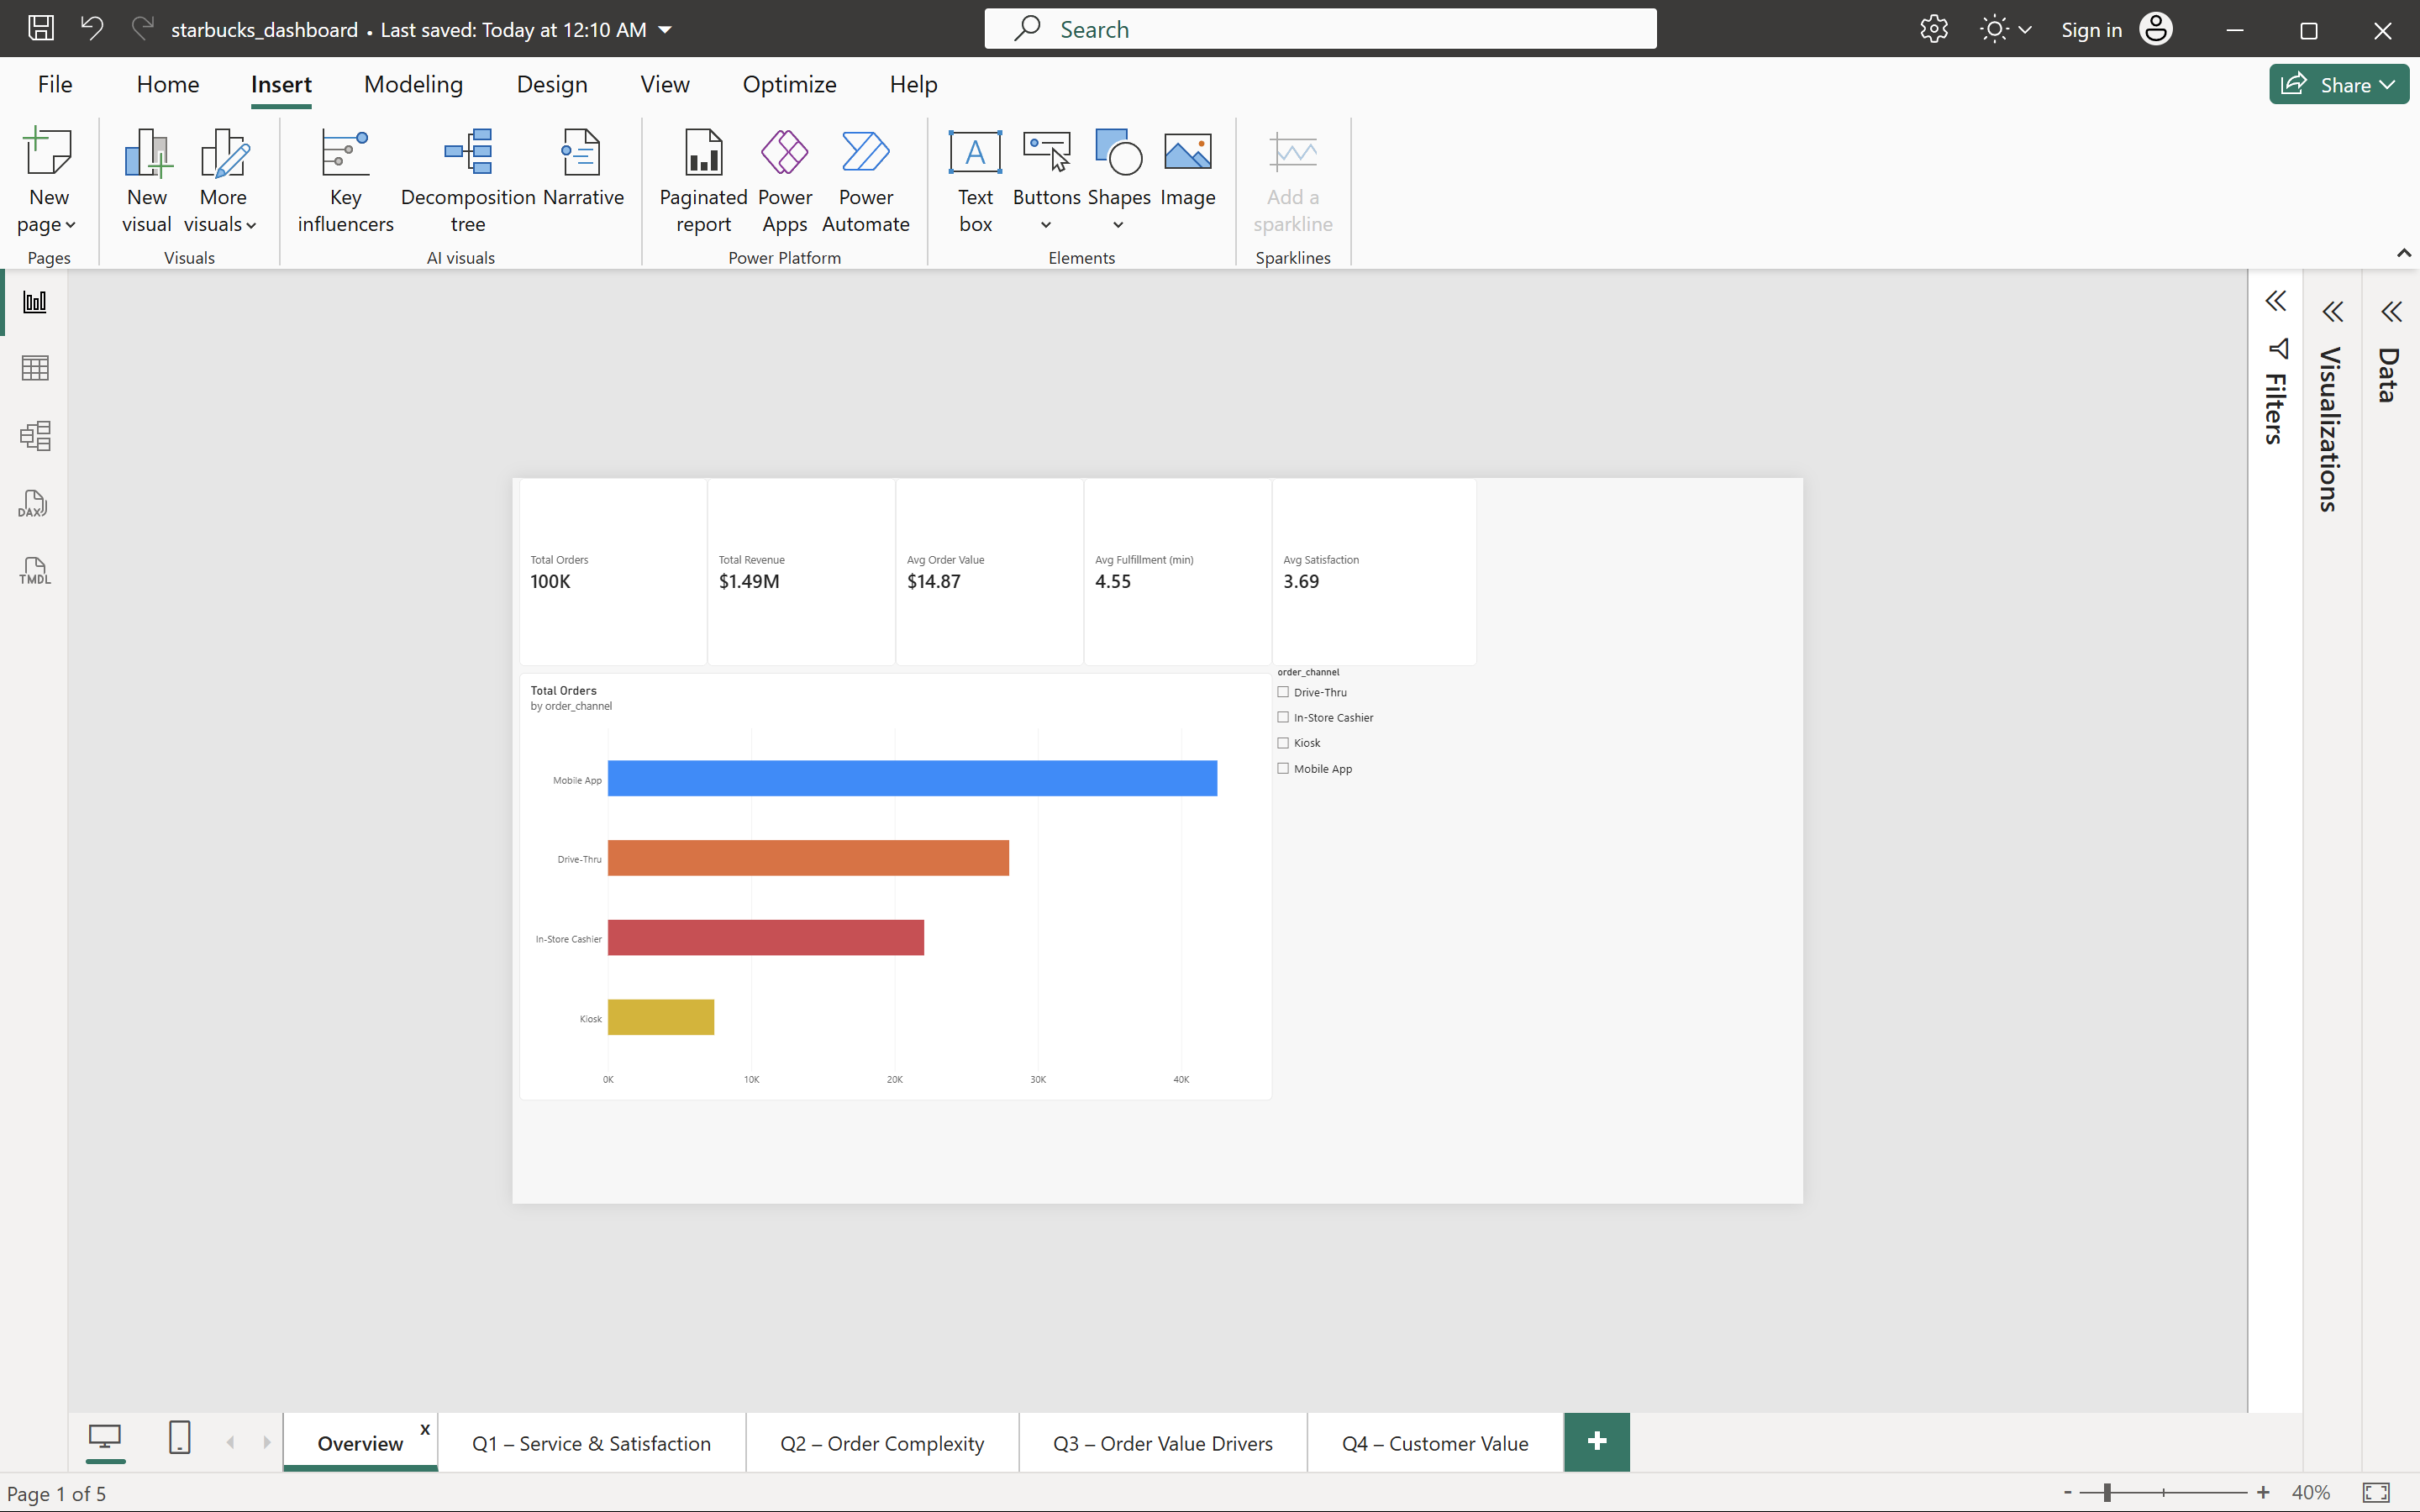

Layout of this report page (visuals, bound fields, positions):
{"tool":"powerbi","page":{"name":"Overview","canvas":[1920,1080],"ordinal":0},"visuals":[{"type":"cardVisual","fields":{"Data":["fact_orders.Total Orders"]},"box":[10,0,280,280],"z":0},{"type":"cardVisual","fields":{"Data":["fact_orders.Total Revenue"]},"box":[290.3,0,280,280],"z":1000},{"type":"cardVisual","fields":{"Data":["fact_orders.Avg Order Value"]},"box":[570.4,0,280,280],"z":2000},{"type":"cardVisual","fields":{"Data":["fact_orders.Avg Satisfaction"]},"box":[1130.6,0,305.6,280.1],"z":3000},{"type":"cardVisual","fields":{"Data":["fact_orders.Avg Fulfillment (min)"]},"box":[850.5,0,280,280],"z":4000},{"type":"clusteredBarChart","fields":{"Category":["fact_orders.order_channel"],"Y":["fact_orders.Total Orders"]},"box":[10.2,290.3,1120.4,636.6],"z":5000},{"type":"slicer","fields":{"Values":["fact_orders.order_channel"]},"box":[1130.6,280.1,305.6,646.8],"z":6000},{"type":"textbox","box":[1446.4,0,473.6,926.9],"z":7000}]}

Visuals, with their boxes on the page's 1920x1080 design canvas (x1, y1, x2, y2). These are canvas units, not pixel positions in the 2420x1512 screenshot, which may show the page scaled, cropped or inside an application window:
cardVisual - fact_orders.Total Orders: crop(10, 0, 290, 280)
cardVisual - fact_orders.Total Revenue: crop(290, 0, 570, 280)
cardVisual - fact_orders.Avg Order Value: crop(570, 0, 850, 280)
cardVisual - fact_orders.Avg Satisfaction: crop(1131, 0, 1436, 280)
cardVisual - fact_orders.Avg Fulfillment (min): crop(850, 0, 1130, 280)
clusteredBarChart - fact_orders.order_channel x fact_orders.Total Orders: crop(10, 290, 1131, 927)
slicer - fact_orders.order_channel: crop(1131, 280, 1436, 927)
textbox: crop(1446, 0, 1920, 927)
